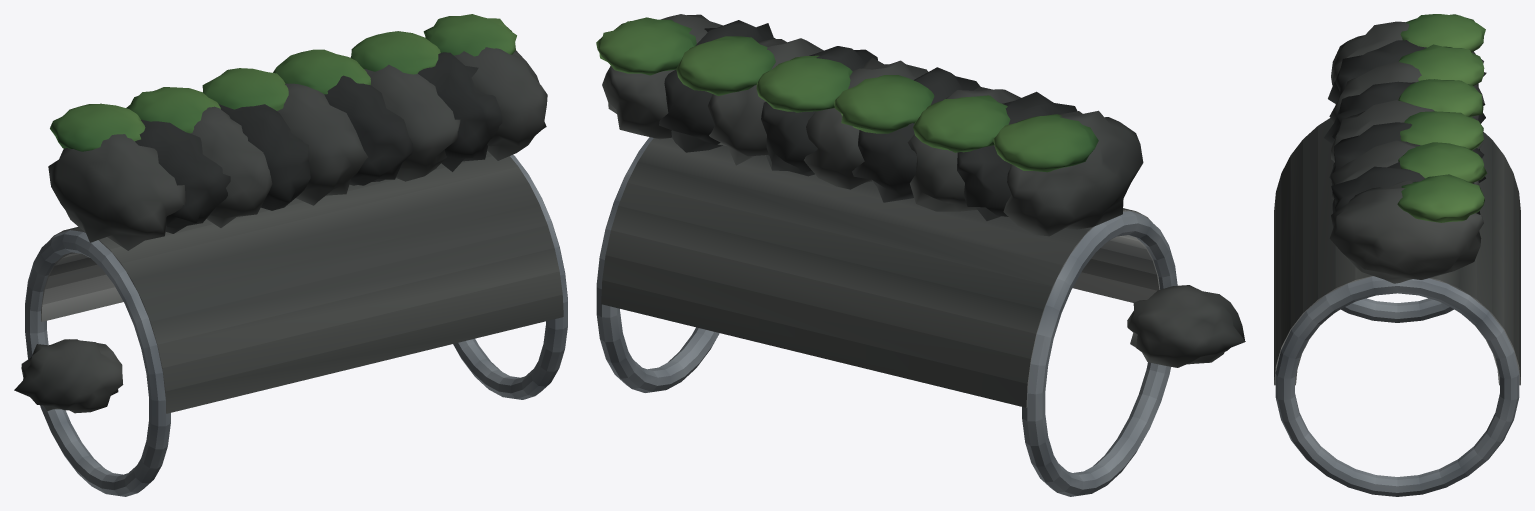
The model's file is tunnel.glb.
3 renders of one model, left to right at view 1: azimuth 30°, elevation 25°; view 2: azimuth 150°, elevation 25°; view 3: azimuth 270°, elevation 25°, orthographic. The views are drawn at different scales.
Parts seen in each view (by area): view 1: tunnel_shell, Torus, Icosphere.058, Icosphere.057, Icosphere.062, Icosphere.066, Icosphere.064, Icosphere.060, Icosphere.059, Icosphere.063, Icosphere.065, Torus.001 (+7 smaller); view 2: tunnel_shell, Torus, Icosphere.058, Icosphere.057, Torus.001, Icosphere.061, Icosphere.067, Icosphere.062, Icosphere.071, Icosphere.064, Icosphere.066, Icosphere.072 (+7 smaller); view 3: tunnel_shell, Torus.001, Icosphere.066, Icosphere.072, Icosphere.071, Icosphere.070, Icosphere.067, Icosphere.068, Icosphere.069, Torus, Icosphere.059, Icosphere.062 (+6 smaller).
Part boxes in pixels (x1,y1,x2,y2): tunnel_shell: (41, 150, 563, 413); Torus: (25, 230, 170, 496); Icosphere.058: (48, 134, 185, 250); Icosphere.057: (14, 339, 123, 413); Icosphere.062: (277, 83, 368, 205); Icosphere.066: (454, 47, 547, 160); Icosphere.064: (364, 64, 460, 181); Icosphere.060: (190, 106, 272, 227); Icosphere.059: (135, 119, 230, 233); Icosphere.063: (324, 75, 413, 185); Icosphere.065: (418, 52, 502, 171); Torus.001: (453, 155, 567, 399); tunnel_shell: (601, 137, 1159, 407); Torus: (1022, 211, 1177, 496); Icosphere.058: (1003, 110, 1143, 236); Icosphere.057: (1127, 285, 1245, 367); Torus.001: (596, 137, 719, 392); Icosphere.061: (852, 67, 980, 202); Icosphere.067: (993, 114, 1098, 172); Icosphere.062: (804, 57, 928, 189); Icosphere.071: (676, 36, 775, 95); Icosphere.064: (708, 38, 823, 165); Icosphere.066: (602, 14, 722, 139); Icosphere.072: (596, 17, 696, 75); tunnel_shell: (1274, 118, 1520, 385); Torus.001: (1275, 276, 1519, 496); Icosphere.066: (1329, 180, 1483, 283); Icosphere.072: (1397, 174, 1484, 222); Icosphere.071: (1398, 142, 1487, 183); Icosphere.070: (1400, 111, 1483, 150); Icosphere.067: (1400, 14, 1485, 52); Icosphere.068: (1399, 44, 1484, 85); Icosphere.069: (1398, 79, 1483, 117); Torus: (1341, 298, 1453, 322); Icosphere.059: (1328, 40, 1486, 105); Icosphere.062: (1331, 100, 1483, 162).
Size of the model in its own units: 41.64 by 25.21 by 18.
